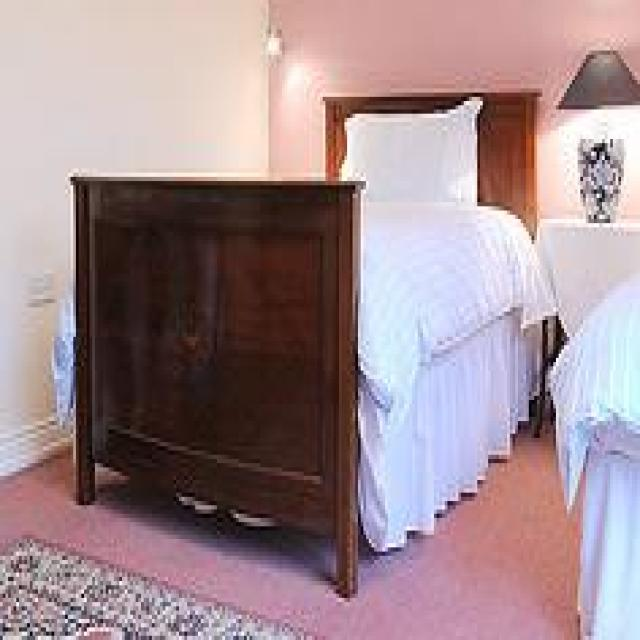bed: (60, 86, 552, 598)
